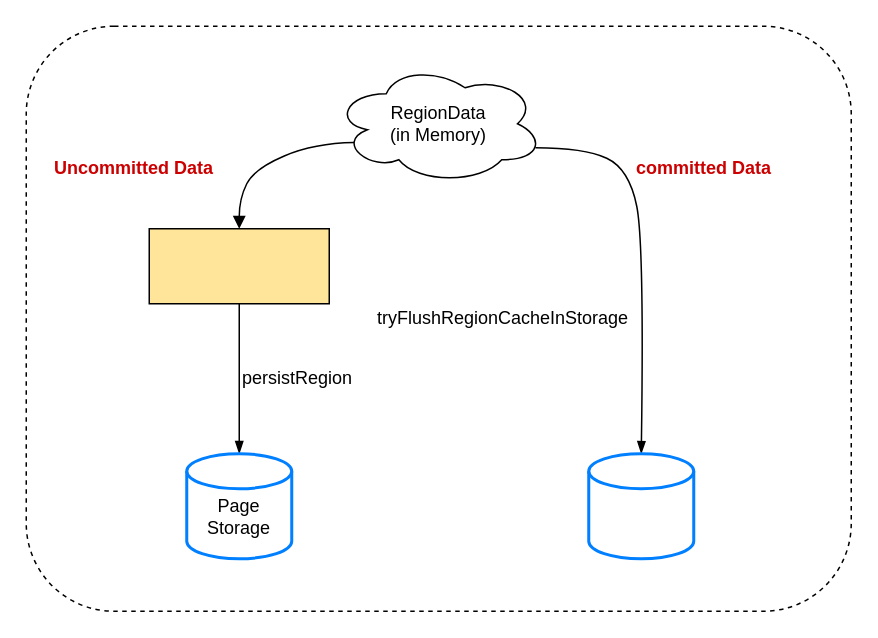
This 878x638 diagram has some shape labels left out. The shapes that lost their labels are listed below. From the top down, each one's box as (x1, y1, x2, y2) in pixels, then its label:
(148, 227, 329, 304): RegionPersister
(586, 452, 694, 560): Delte Tree
